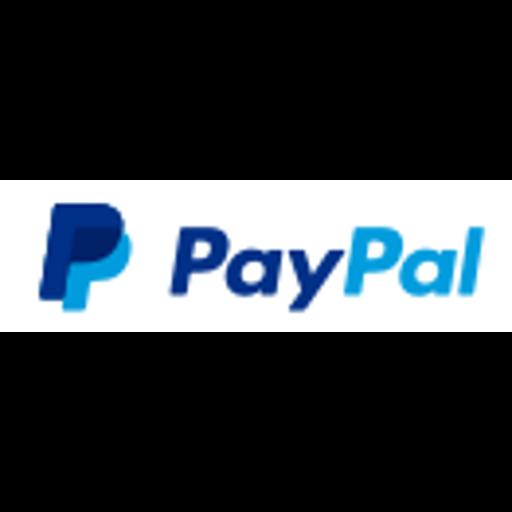PayPal: (0, 180, 512, 332)
